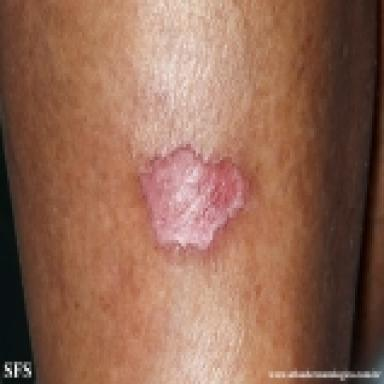Porokeratosis: (137, 145, 253, 253)
